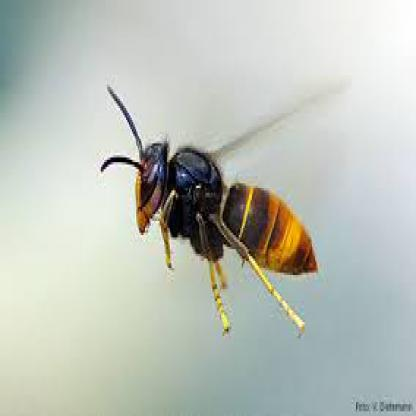asian: (89, 73, 346, 345)
